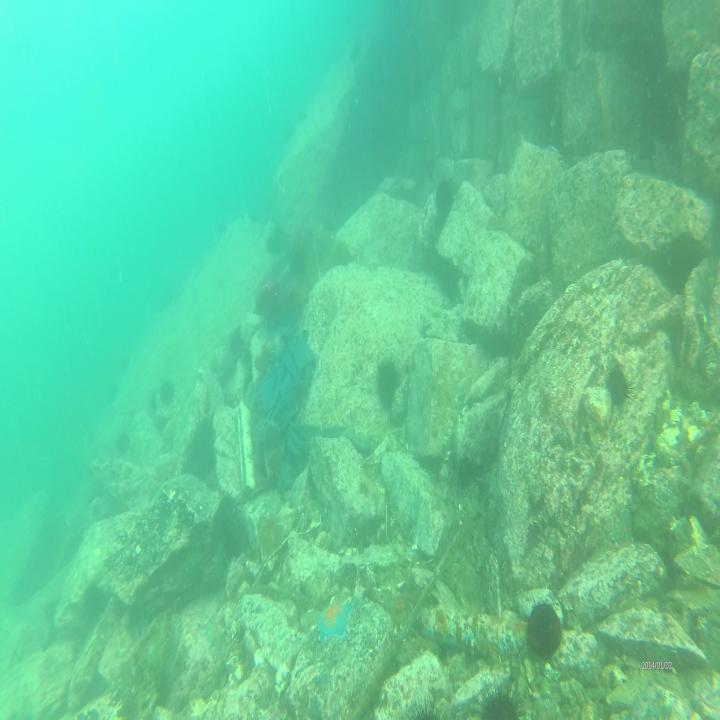echinus: (527, 599, 565, 663), (605, 359, 638, 415), (258, 509, 288, 557), (376, 357, 404, 407), (432, 172, 461, 217), (158, 379, 176, 411)
starfish: (312, 595, 354, 642)
